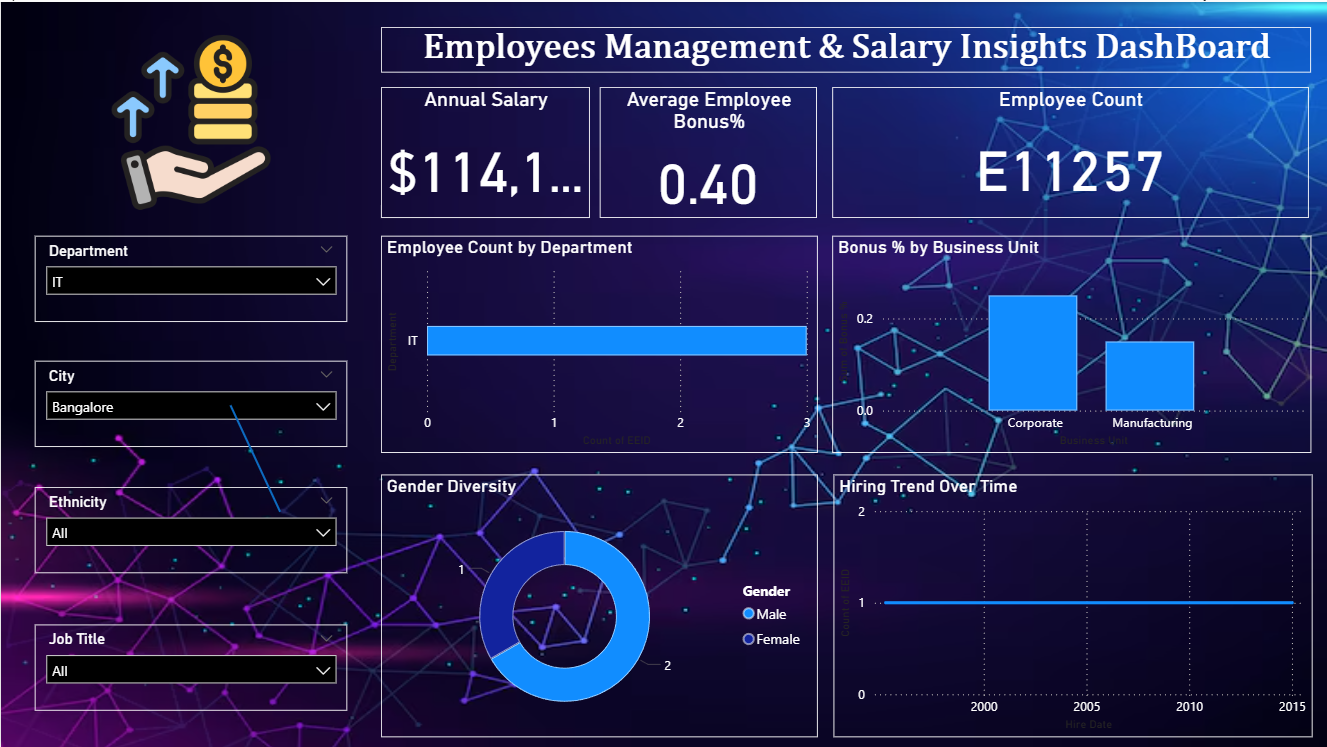

The page's visual inventory and layout, read from the dashboard file:
{"tool":"powerbi","page":{"name":"Page 1","canvas":[1280,720],"ordinal":0},"visuals":[{"type":"textbox","title":"Employees Management & Salary Insights DashBoard","box":[366.4,24.7,897.4,43.9],"z":0},{"type":"slicer","fields":{"Values":["Manage employee data.Department"]},"box":[32.6,225.6,301.6,83.2],"z":1000},{"type":"slicer","fields":{"Values":["Manage employee data.City"]},"box":[32.6,346.2,301.6,83.2],"z":2000},{"type":"slicer","fields":{"Values":["Manage employee data.Ethnicity"]},"box":[32.6,468.1,301.6,83.2],"z":3000},{"type":"slicer","fields":{"Values":["Manage employee data.Job Title"]},"box":[32.6,600.8,301.6,83.2],"z":4000},{"type":"clusteredBarChart","title":"Employee Count by Department","fields":{"Category":["Manage employee data.Department"],"Y":["CountNonNull(Manage employee data.EEID)"]},"box":[366.4,225,421.3,209.9],"z":5000},{"type":"clusteredColumnChart","title":"Bonus % by Business Unit","fields":{"Y":["Sum(Manage employee data.Bonus %)"],"Category":["Manage employee data.Business Unit"]},"box":[802.3,225.6,462.1,209.9],"z":6000},{"type":"card","title":"Annual Salary","fields":{"Values":["Min(Manage employee data.Annual Salary)"]},"box":[366.8,82,201.5,126.7],"z":7000},{"type":"card","title":"Average Employee Bonus%","fields":{"Values":["Sum(Manage employee data.Bonus %)"]},"box":[577.7,82.3,209.9,126.2],"z":8000},{"type":"lineChart","title":"Hiring Trend Over Time","fields":{"Y":["CountNonNull(Manage employee data.EEID)"],"Category":["Manage employee data.Hire Date"]},"box":[803.5,456,462.1,253.4],"z":9000},{"type":"donutChart","title":"Gender Diversity","fields":{"Category":["Manage employee data.Gender"],"Y":["CountNonNull(Manage employee data.EEID)"]},"box":[366.4,455.6,421.3,253.9],"z":10000},{"type":"card","title":"Employee Count","fields":{"Values":["Min(Manage employee data.EEID)"]},"box":[802.7,82.3,459.7,126.2],"z":11000},{"type":"image","box":[47.1,24.1,272.7,184.6],"z":12000},{"type":"shape","box":[215.4,388.3,59,104.3],"z":13000}]}

Visuals, with their boxes in screenshot pixels (x1, y1, x2, y2), scaled from the page's 1280x720 canvas onto the 1327x747 screenshot:
"Employees Management & Salary Insights DashBoard" textbox: bbox=[380, 26, 1310, 71]
slicer - Manage employee data.Department: bbox=[34, 234, 346, 320]
slicer - Manage employee data.City: bbox=[34, 359, 346, 446]
slicer - Manage employee data.Ethnicity: bbox=[34, 486, 346, 572]
slicer - Manage employee data.Job Title: bbox=[34, 623, 346, 710]
"Employee Count by Department" clusteredBarChart: bbox=[380, 233, 817, 451]
"Bonus % by Business Unit" clusteredColumnChart: bbox=[832, 234, 1311, 452]
"Annual Salary" card: bbox=[380, 85, 589, 217]
"Average Employee Bonus%" card: bbox=[599, 85, 817, 216]
"Hiring Trend Over Time" lineChart: bbox=[833, 473, 1312, 736]
"Gender Diversity" donutChart: bbox=[380, 473, 817, 736]
"Employee Count" card: bbox=[832, 85, 1309, 216]
image: bbox=[49, 25, 332, 217]
shape: bbox=[223, 403, 284, 511]
